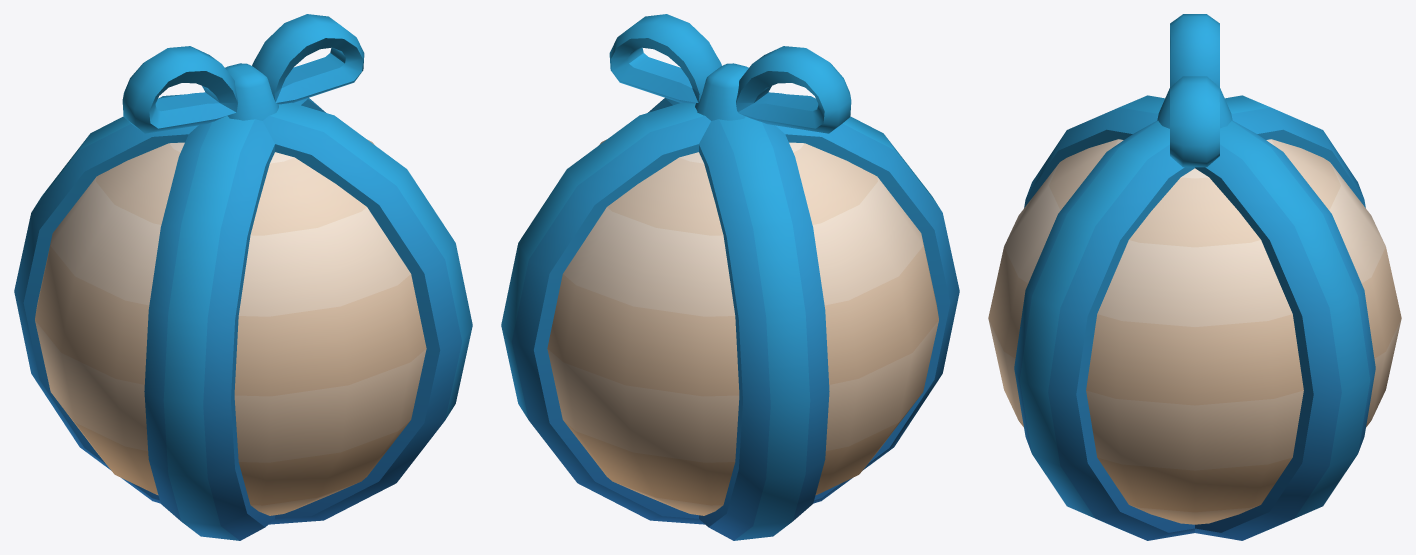
File: present_sphere_B_white.fbx
3 views of the same model, side by side, from view 1: azimuth 30°, elevation 25°; view 2: azimuth 150°, elevation 25°; view 3: azimuth 270°, elevation 25° (orthographic).
Parts seen in each view (by area): view 1: present_sphere_B_white; view 2: present_sphere_B_white; view 3: present_sphere_B_white.
Boxes of the visible parts, x1,y1,x2,y2 form: present_sphere_B_white: [14, 14, 472, 540]; present_sphere_B_white: [501, 14, 959, 540]; present_sphere_B_white: [988, 14, 1401, 540].
Size of the model in its own units: 0.7933 by 1 by 0.7933.
